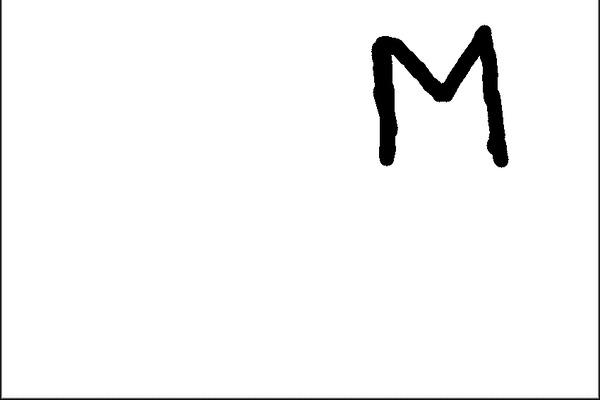M: (368, 20, 514, 168)
